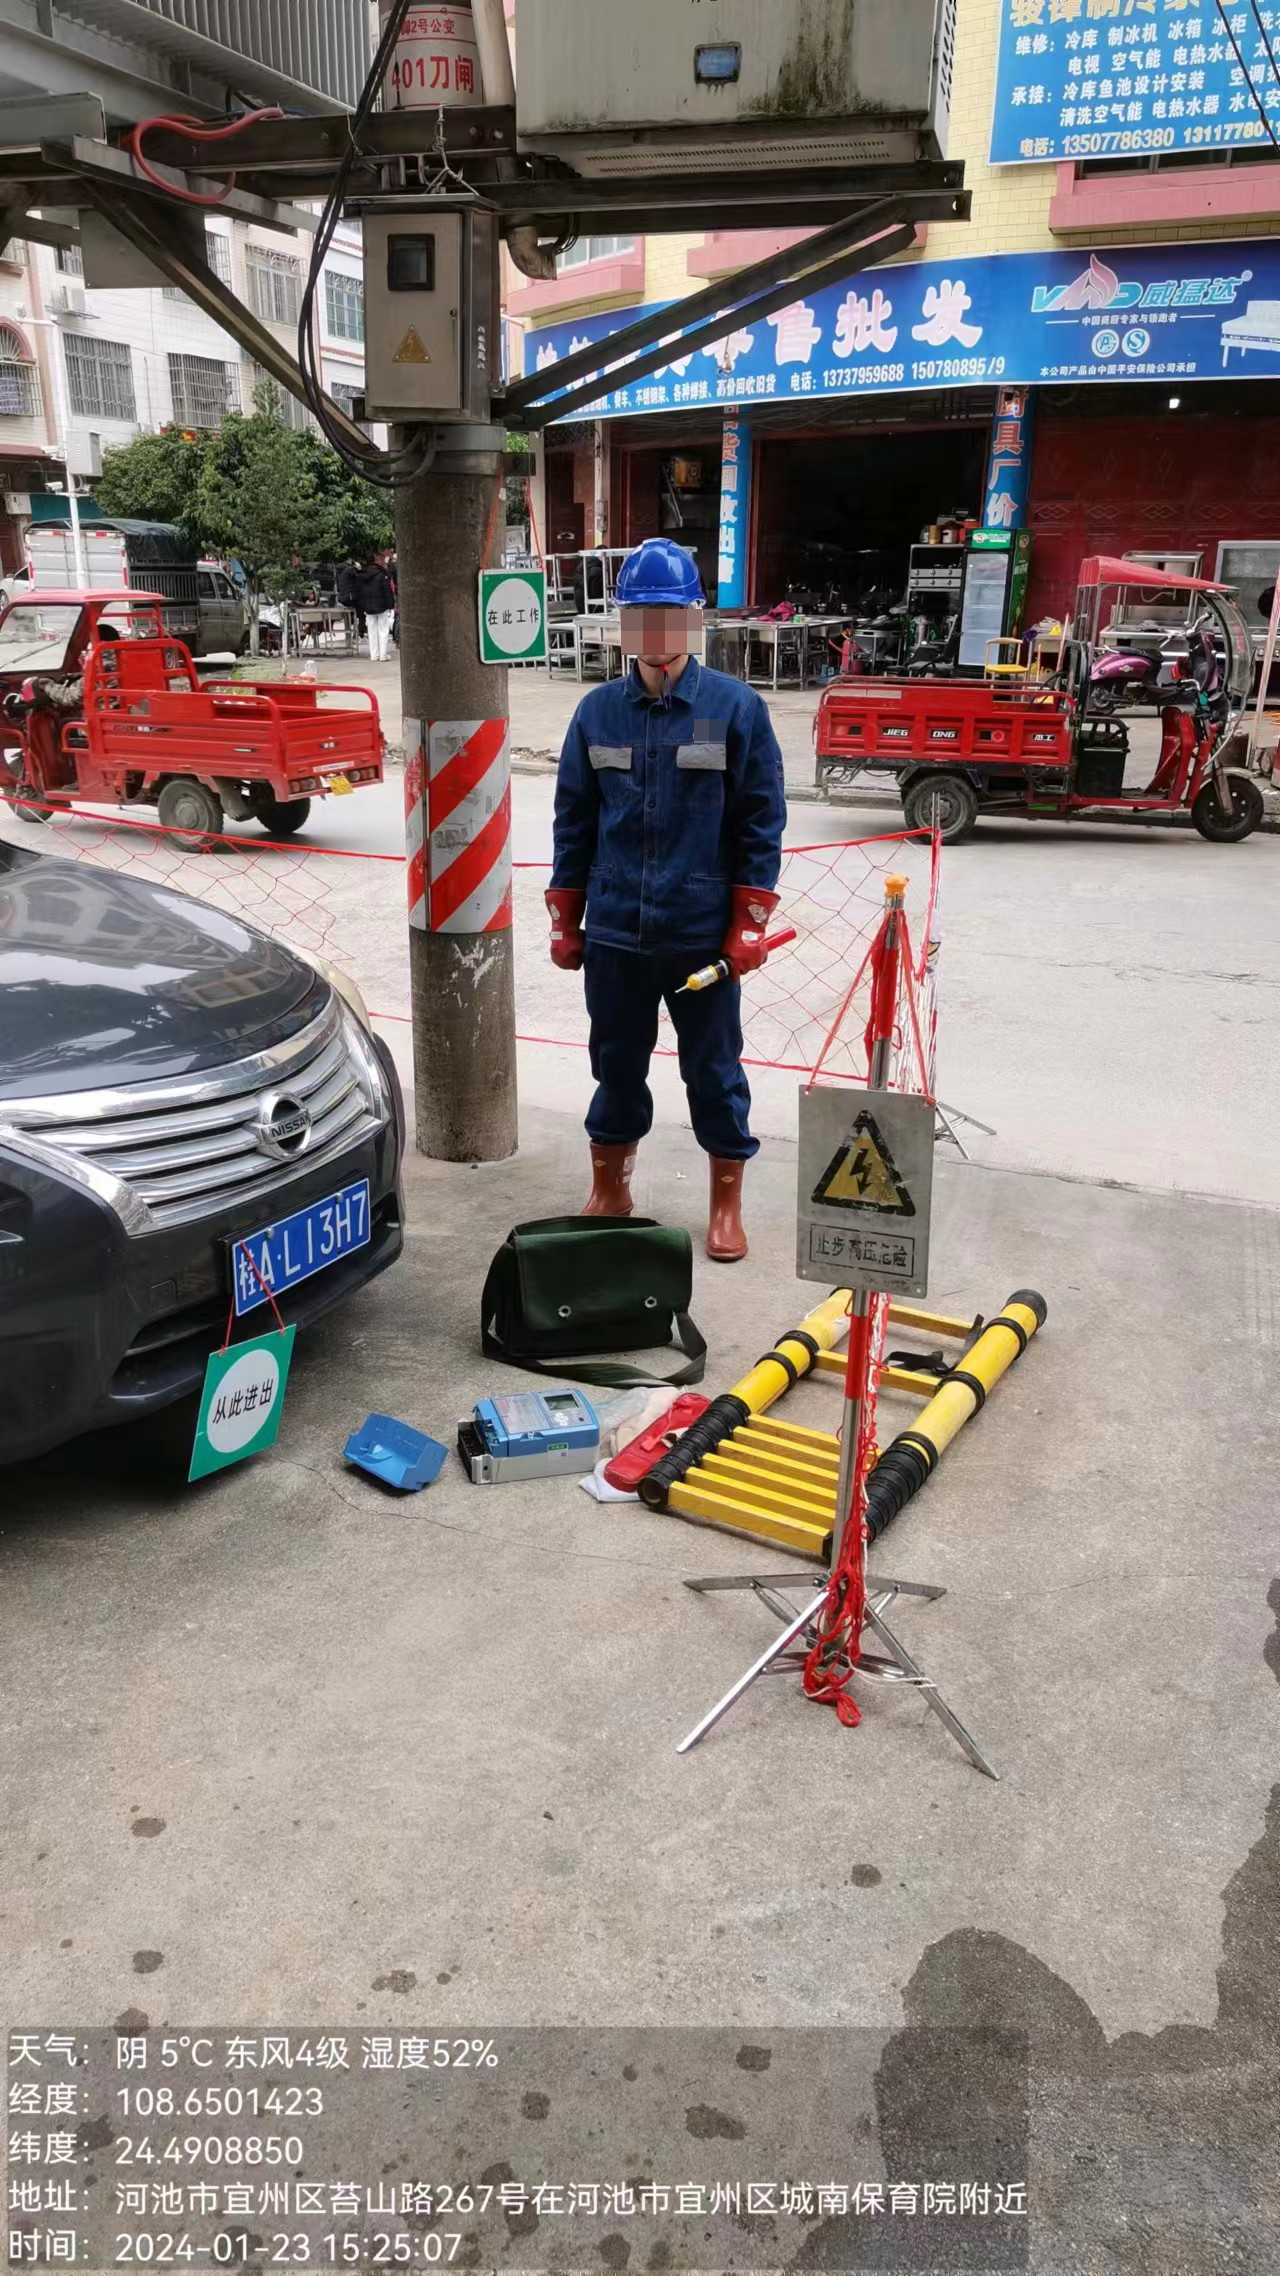downsuit: (577, 955, 758, 1154)
halt: (608, 537, 712, 674)
intosign: (168, 1326, 319, 1475)
longglove: (721, 880, 778, 975), (544, 882, 587, 971)
person: (543, 535, 794, 1276)
shoe: (568, 1126, 643, 1236), (692, 1146, 748, 1270)
testrod: (671, 924, 798, 993)
upsuit: (548, 664, 790, 944)
worksign: (473, 570, 551, 677)
